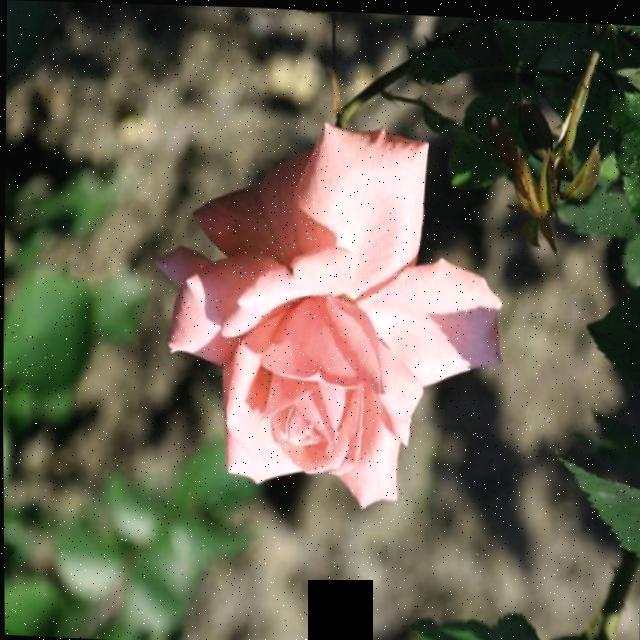rose: (115, 69, 554, 574)
